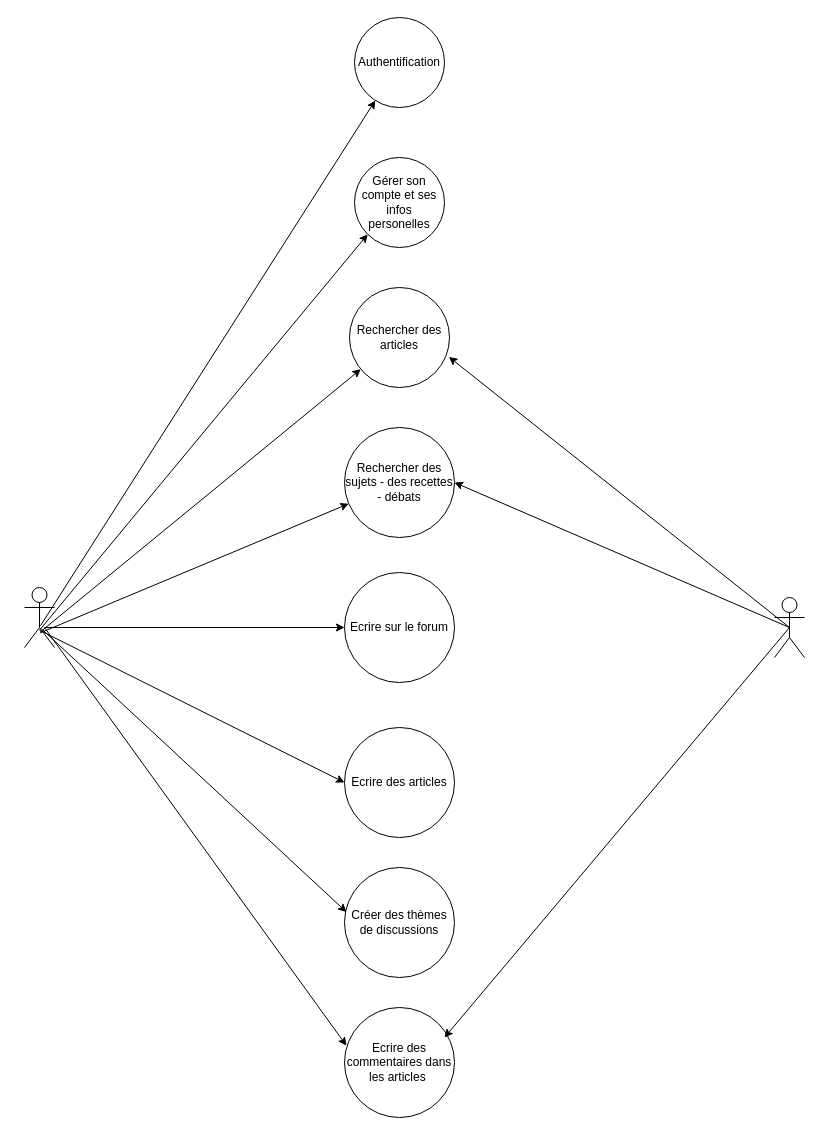
Image size: 826x1135. Some labels were removed from this diagram. The centre of each missing label's shape, as x and y in pixels:
"Membre" belongs at pixel 39 617.
"Visiteur" belongs at pixel 789 627.
